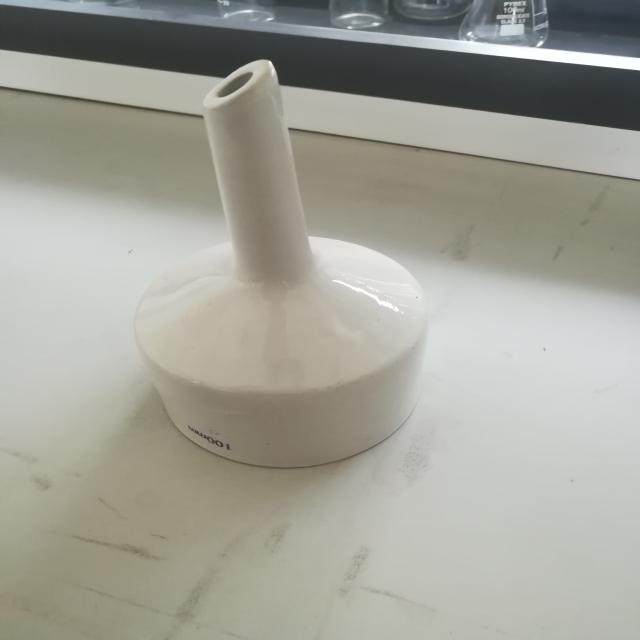Buchner_Funnel: (112, 44, 475, 496)
